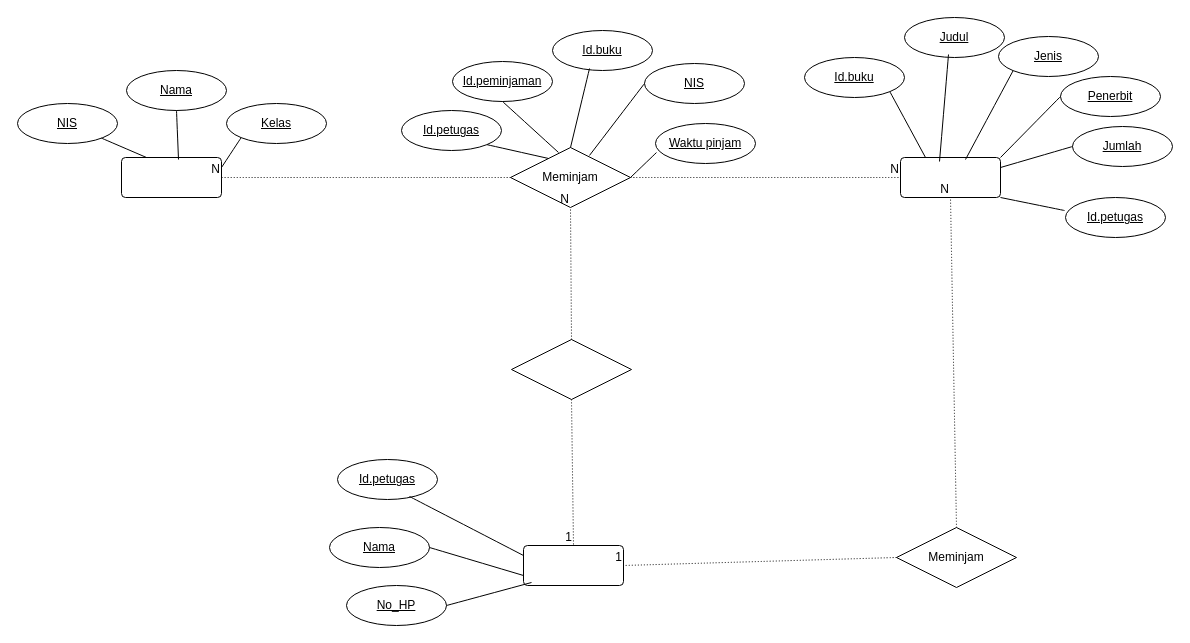
Image size: 1190x643. Some labels were removed from this diagram. The box of each missing label's shape, as (x1, y1, x2, y2) in pixels:
Buku: (900, 156, 1000, 198)
Mengonfirmasi: (510, 338, 632, 400)
Petugas: (522, 544, 624, 586)
Siswa: (120, 156, 222, 198)
